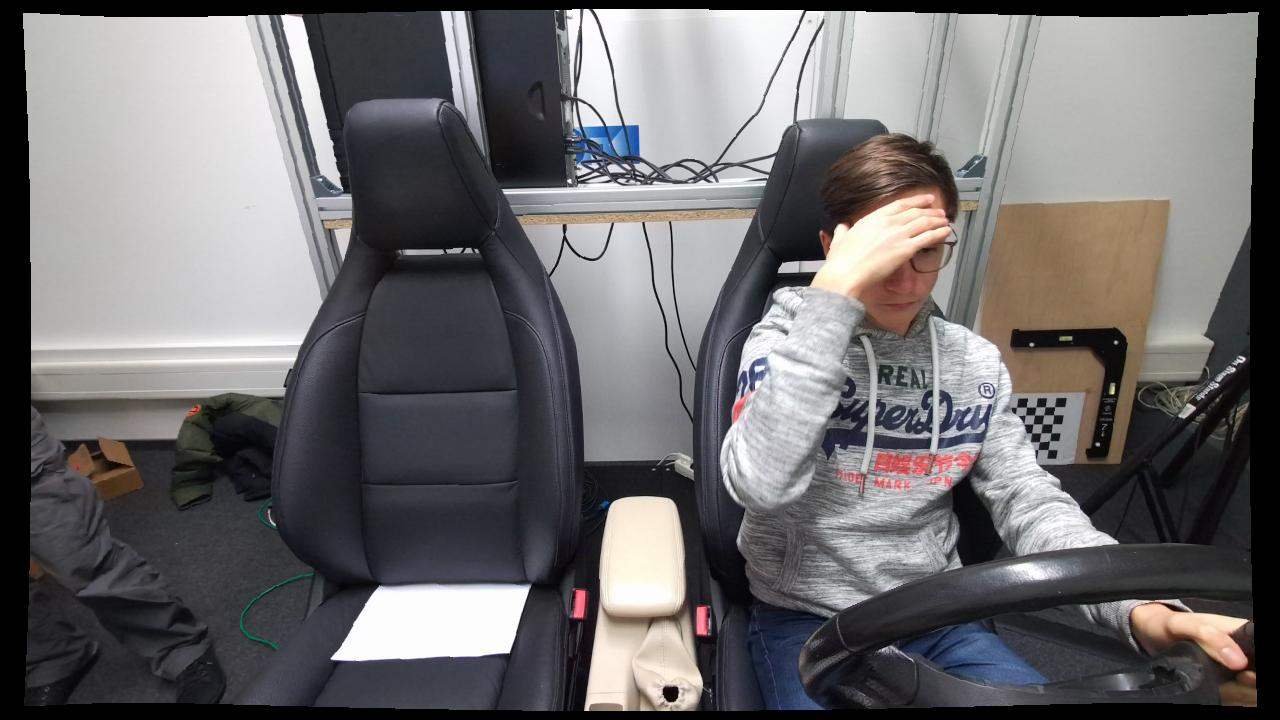Distracted: (715, 129, 1021, 713)
